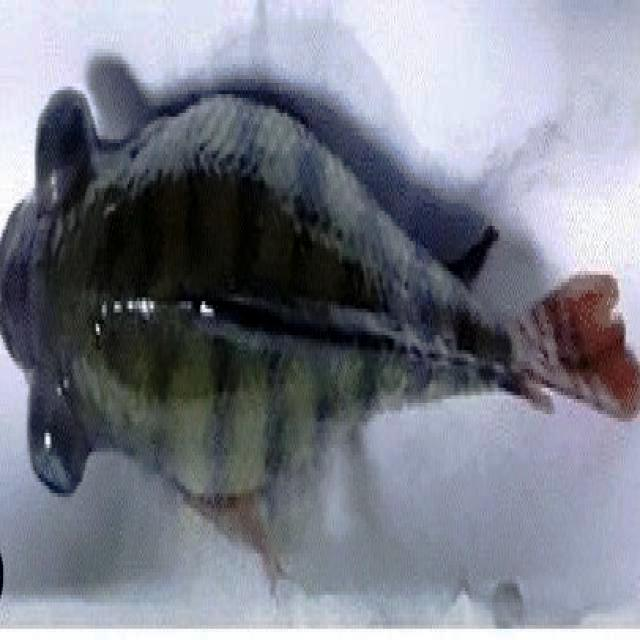Tilapia Lake Virus -TiLV-: (0, 88, 639, 498)
